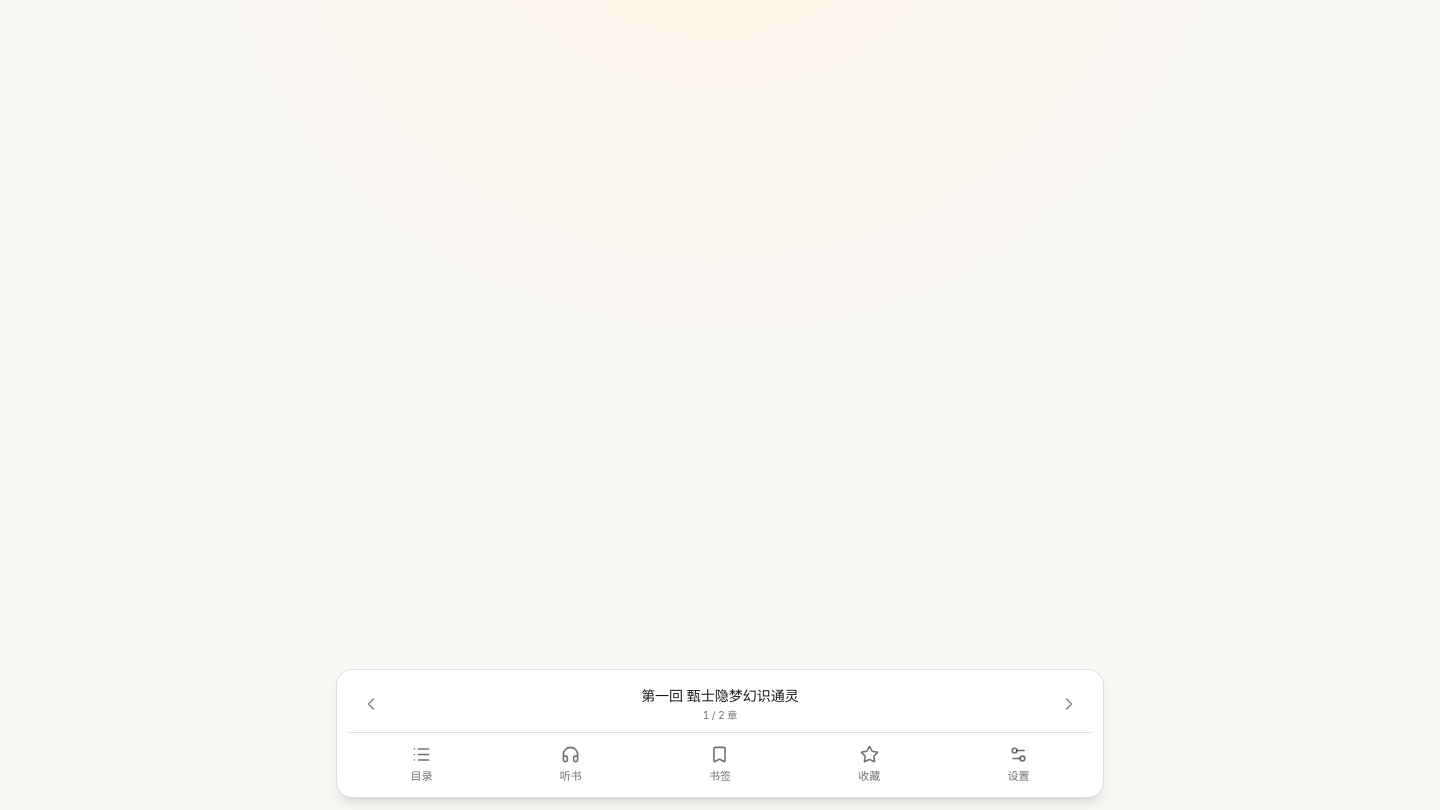
Test: ReaderToolbar › disables playback while AI narration is not available
The width and height of the screenshot is (1440, 810).
Click the button with aria-label "打开听书控制" at (571, 765), box [498,737,643,793]
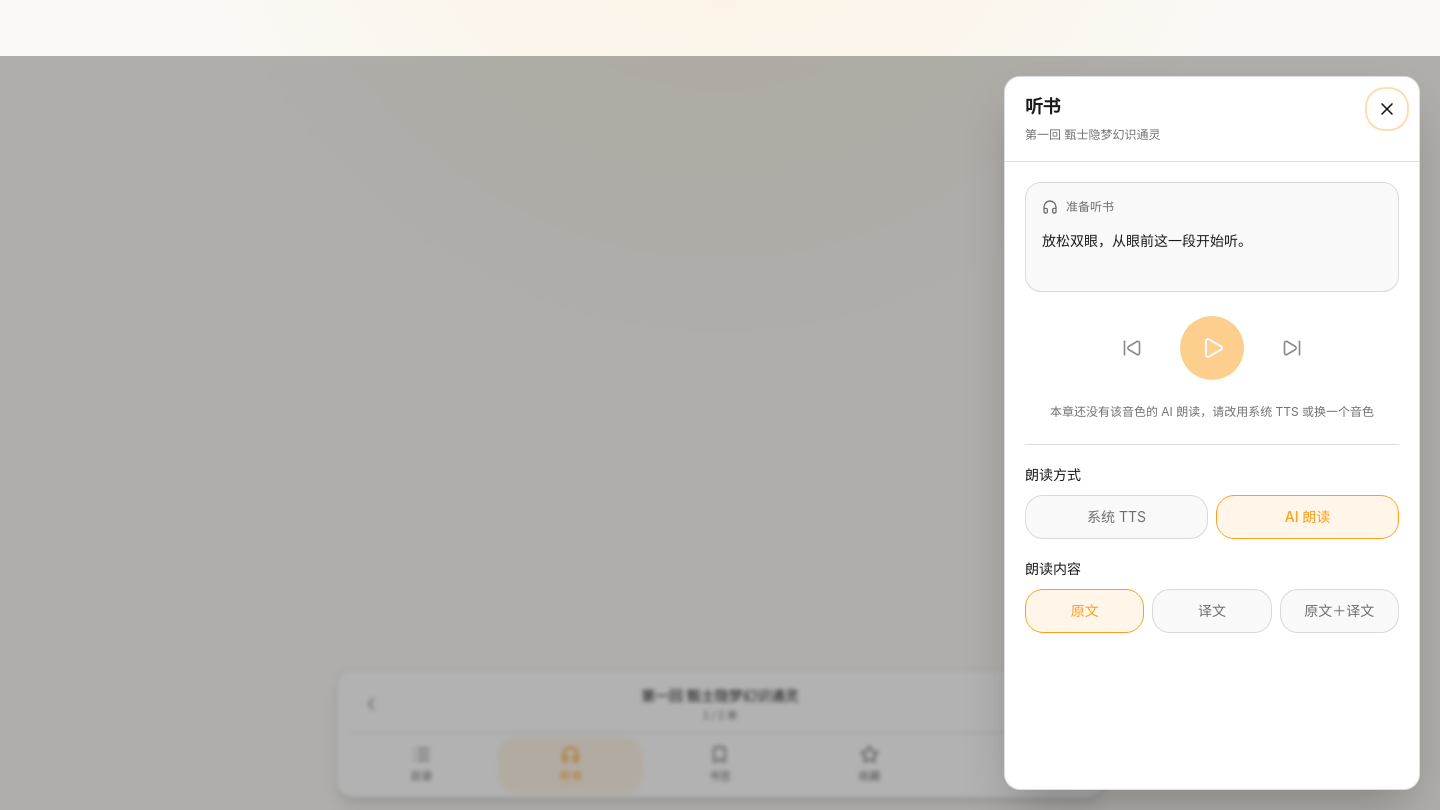
expect the button named "从当前位置开始听书" is disabled: met, box [1180,316,1244,380]
expect the text "本章还没有该音色的 AI 朗读，请改用系统 TTS 或换一个音色" is shown: met, box [1025,404,1399,420]
